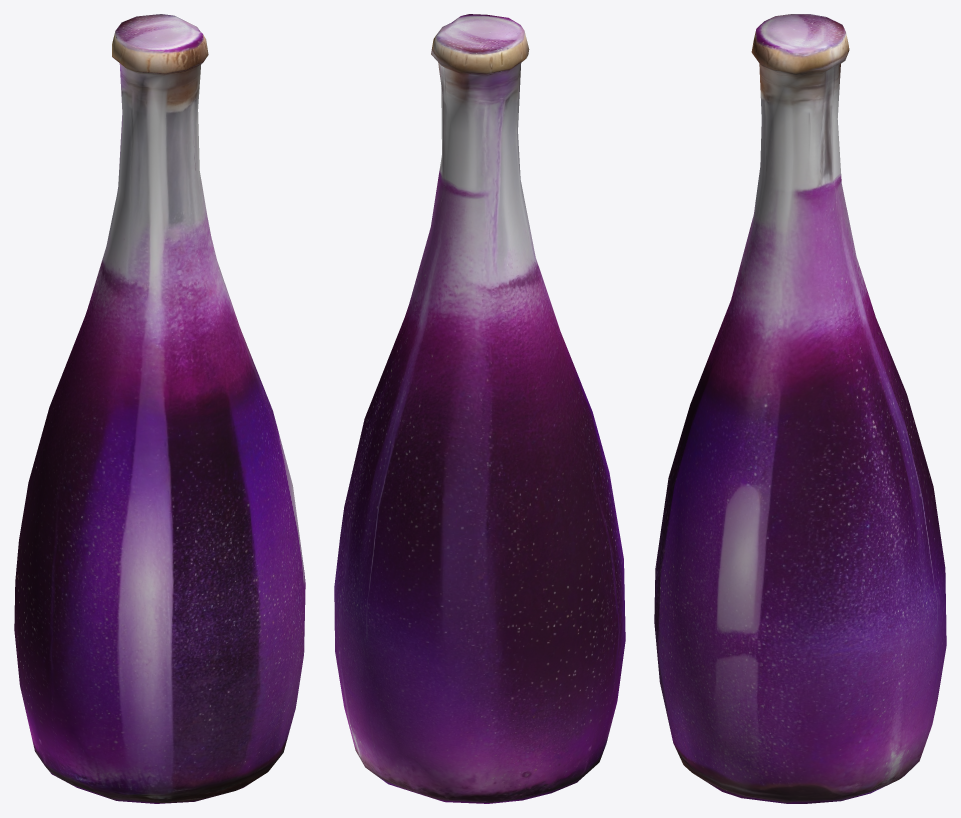
File: speed-potion.glb
3 renders of one model, left to right at view 1: azimuth 30°, elevation 25°; view 2: azimuth 150°, elevation 25°; view 3: azimuth 270°, elevation 25°, orthographic.
Parts seen in each view (by area): view 1: Mesh_0.002; view 2: Mesh_0.002; view 3: Mesh_0.002.
Part boxes in pixels (x1,y1,x2,y2): Mesh_0.002: (14, 14, 305, 803); Mesh_0.002: (334, 14, 625, 803); Mesh_0.002: (654, 14, 946, 803).
Size of the model in its own units: 0.7288 by 2 by 0.729.
1 material, 1 textured.
